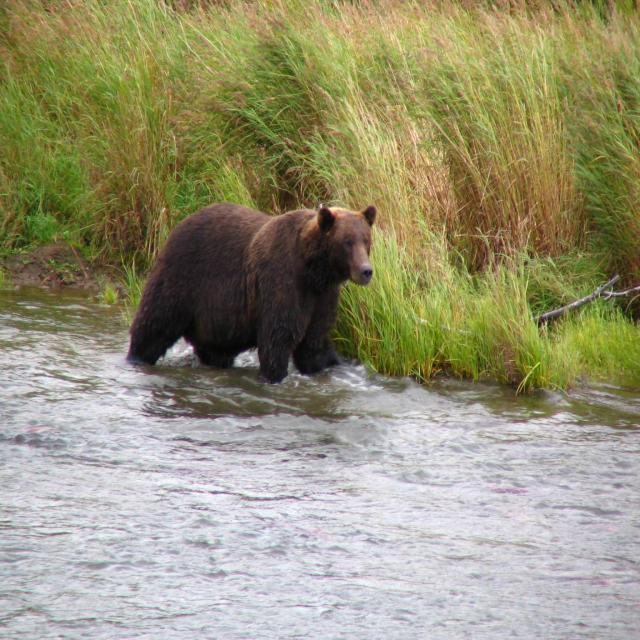bear face: (136, 203, 376, 374)
